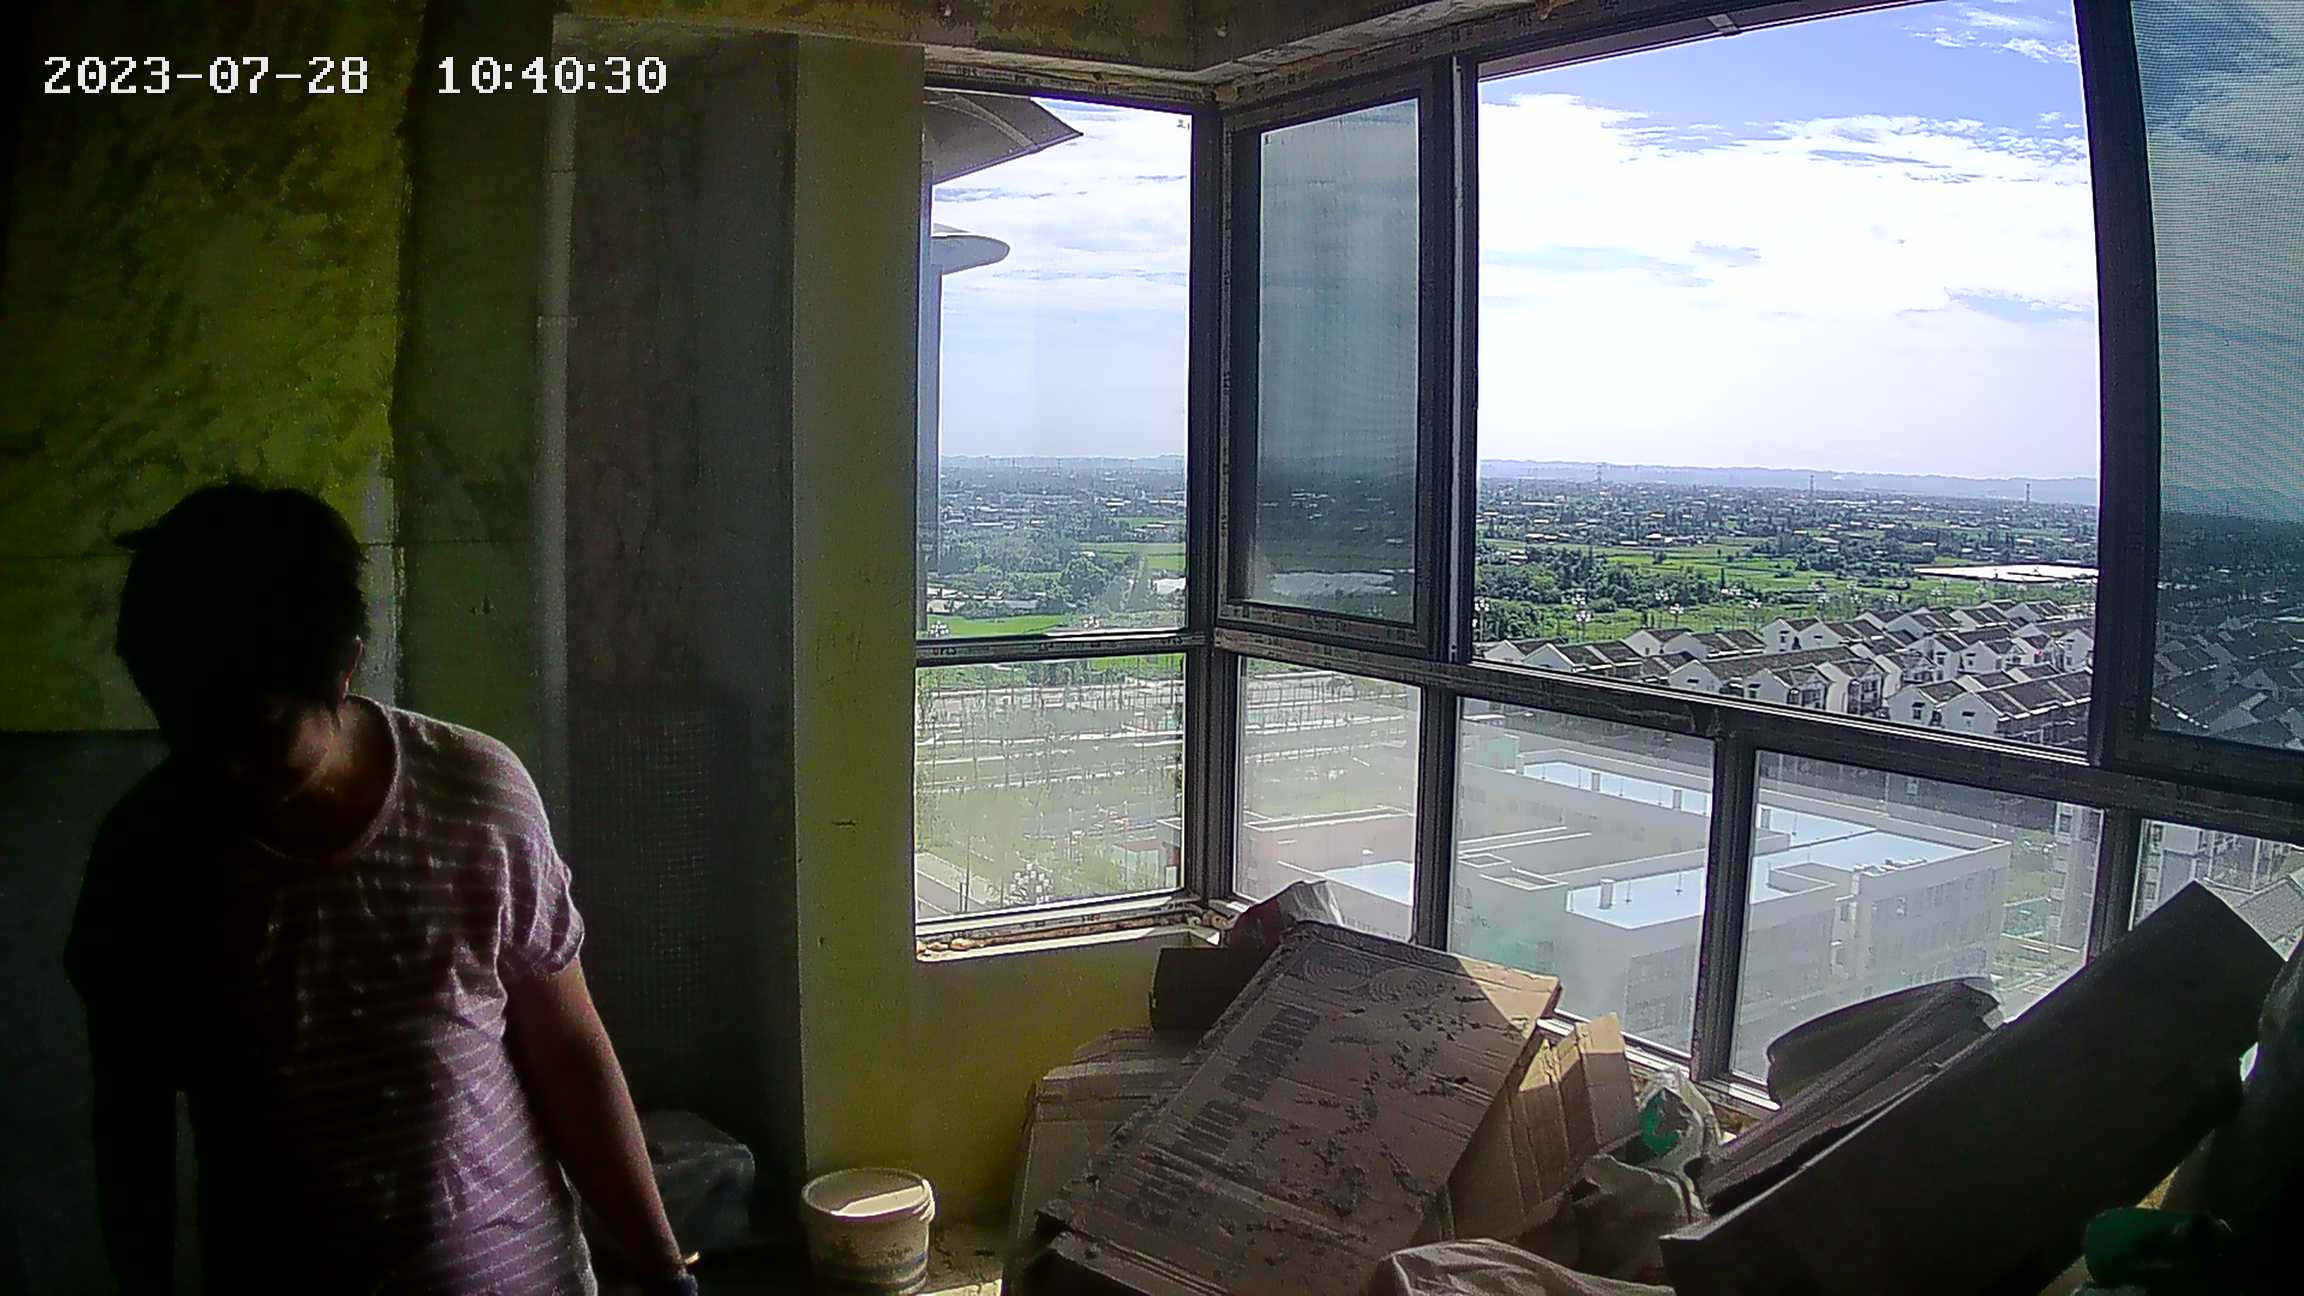people: (80, 479, 712, 1296)
window: (949, 73, 2301, 1070)
